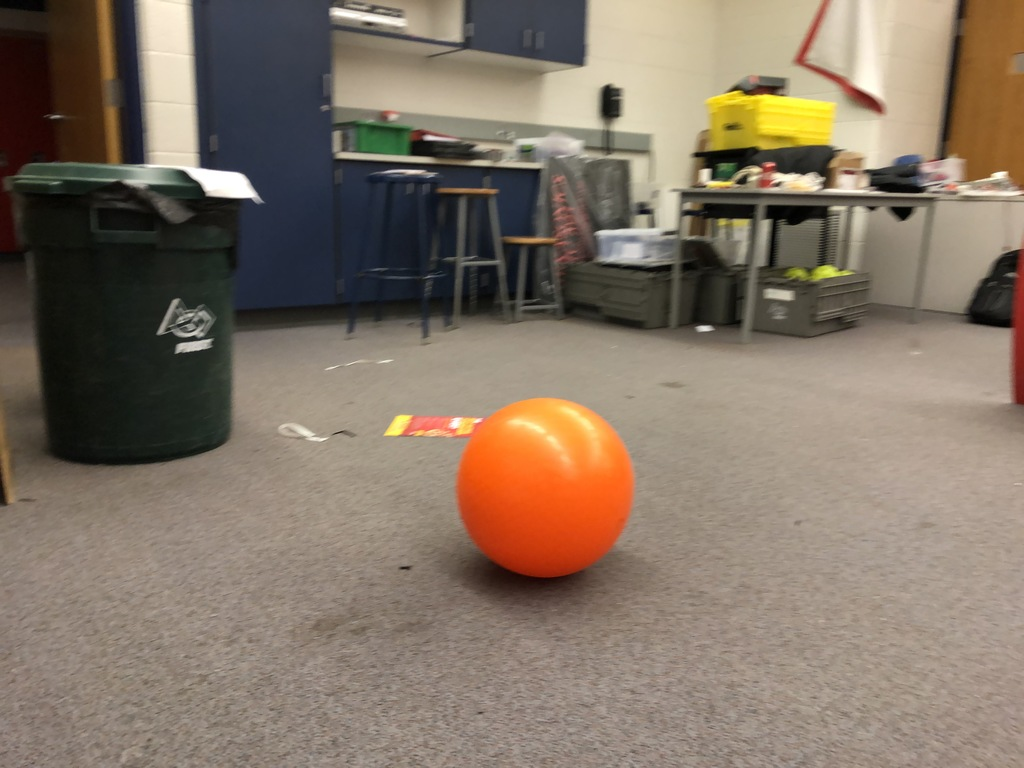cargo: (445, 391, 635, 581)
